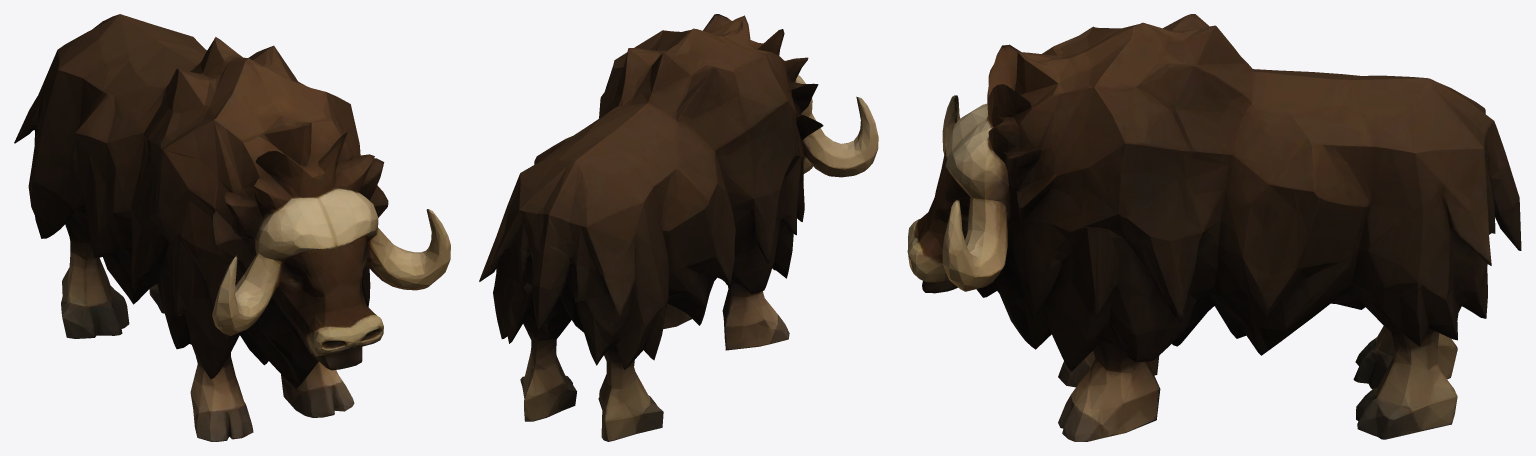
Rendered from musk_ox.glb.
3 renders of one model, left to right at view 1: azimuth 30°, elevation 25°; view 2: azimuth 150°, elevation 25°; view 3: azimuth 270°, elevation 25°, orthographic. The views are drawn at different scales.
Parts seen in each view (by area): view 1: world; view 2: world; view 3: world.
Part boxes in pixels (x1=…): world: x1=14, y1=14, x2=450, y2=441; world: x1=479, y1=14, x2=878, y2=441; world: x1=907, y1=14, x2=1521, y2=441.
Bounding box in the file's own units: 0.4886 × 0.6802 × 0.9977.
1 material, 1 textured.
